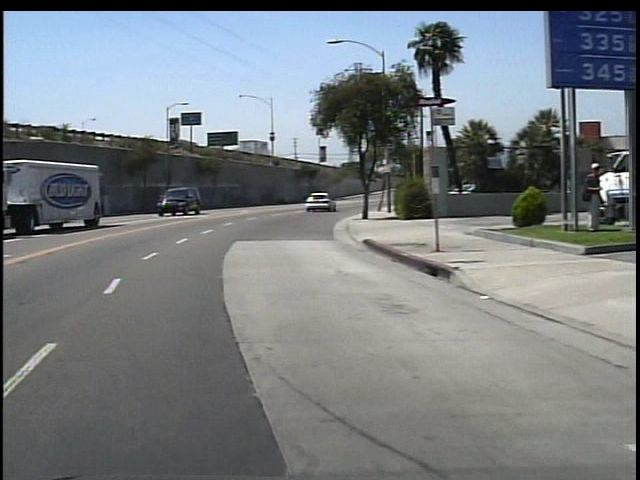person: (573, 159, 600, 235)
